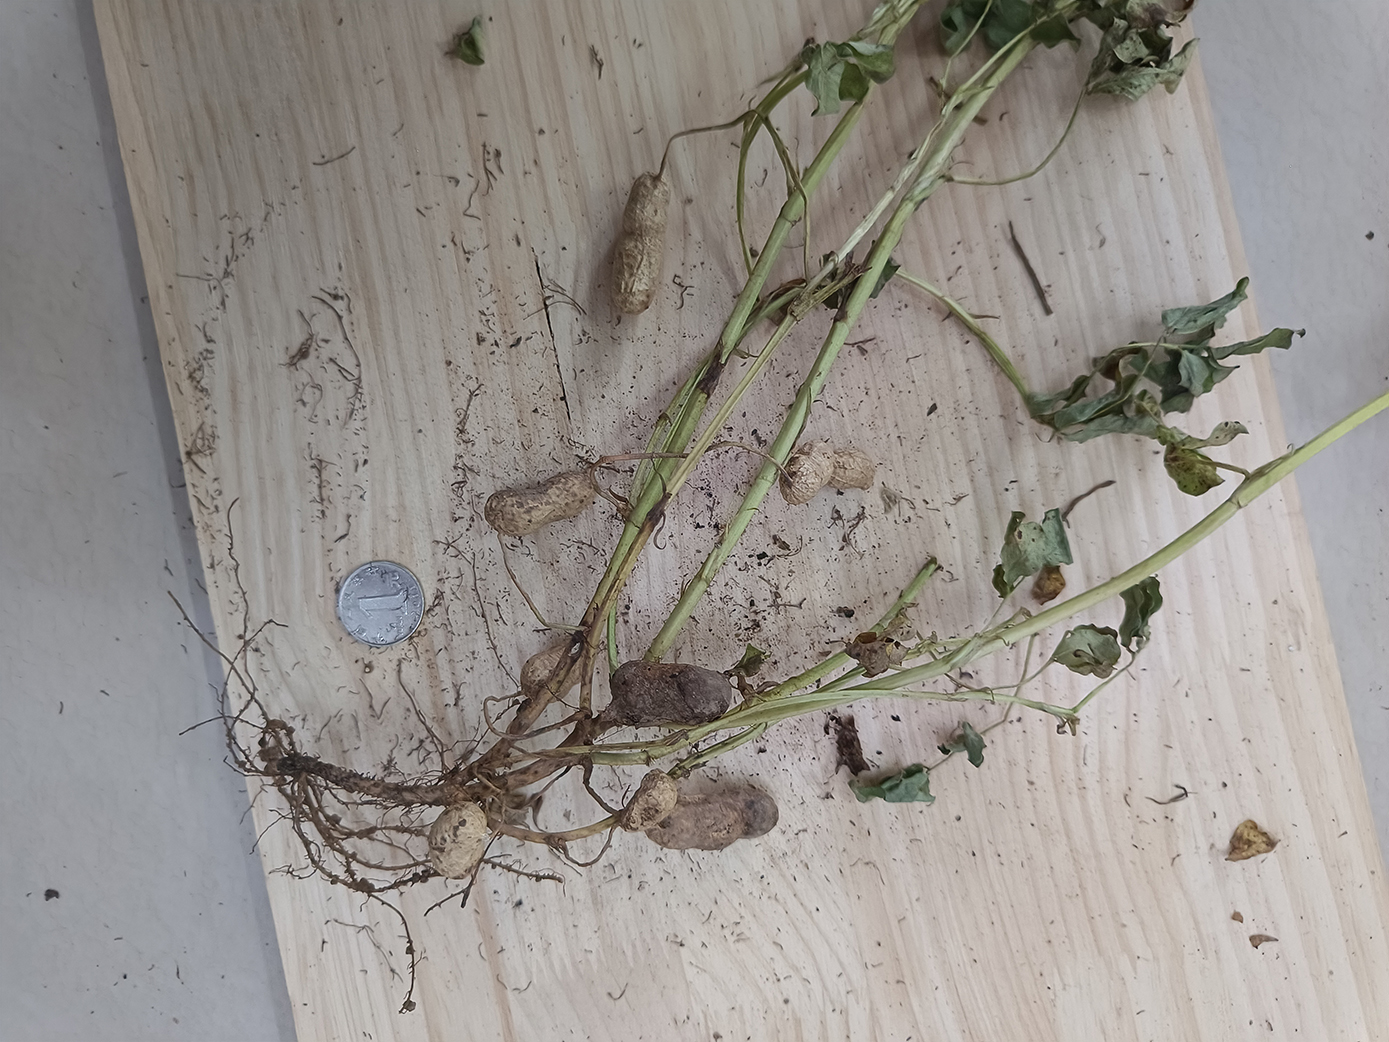h: (610, 174, 673, 313), (486, 468, 597, 536), (782, 440, 873, 503), (428, 802, 489, 881), (519, 636, 591, 701), (622, 771, 678, 833)
l: (612, 659, 732, 725), (648, 790, 779, 849)
